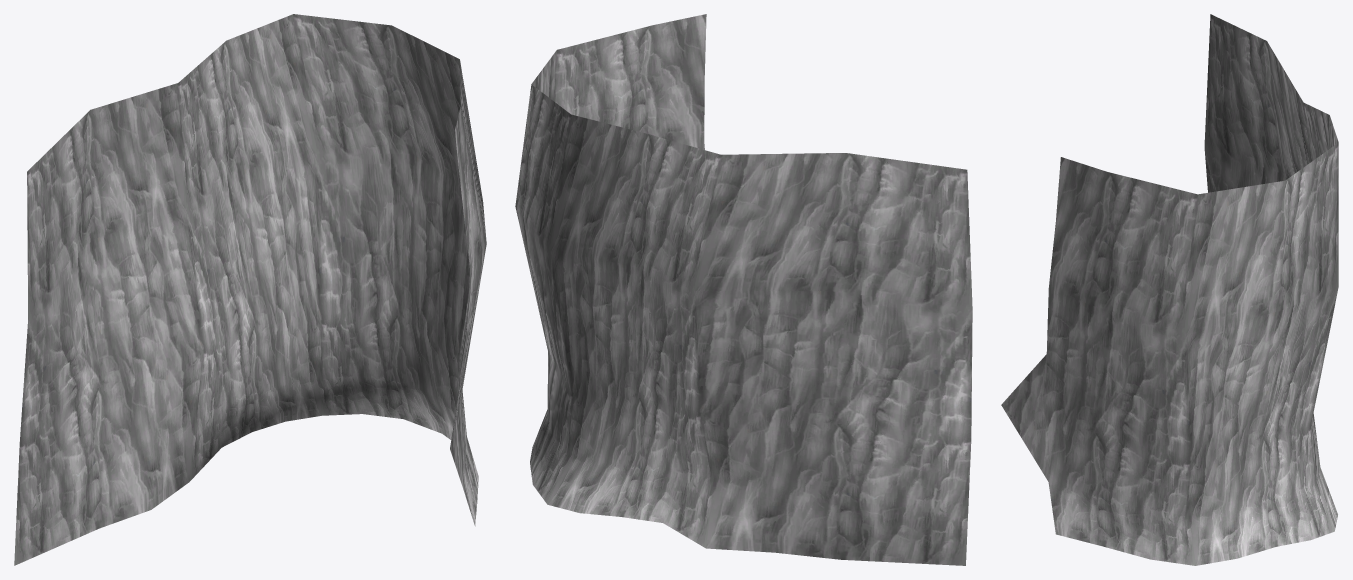
Rendered from SWORDLIGHT20_PS-AREA03_81.fbx.
3 views of the same model, side by side, from view 1: azimuth 30°, elevation 25°; view 2: azimuth 150°, elevation 25°; view 3: azimuth 270°, elevation 25° (orthographic). The views are drawn at different scales.
Parts seen in each view (by area): view 1: SWORDLIGHT20_PS-AREA03_81; view 2: SWORDLIGHT20_PS-AREA03_81; view 3: SWORDLIGHT20_PS-AREA03_81.
Part boxes in pixels (bbox=[...]): SWORDLIGHT20_PS-AREA03_81: bbox=[14, 14, 486, 565]; SWORDLIGHT20_PS-AREA03_81: bbox=[515, 14, 972, 565]; SWORDLIGHT20_PS-AREA03_81: bbox=[1001, 14, 1338, 565].
Size of the model in its own units: 160291 by 146294 by 112500.
1 material, 1 textured.
